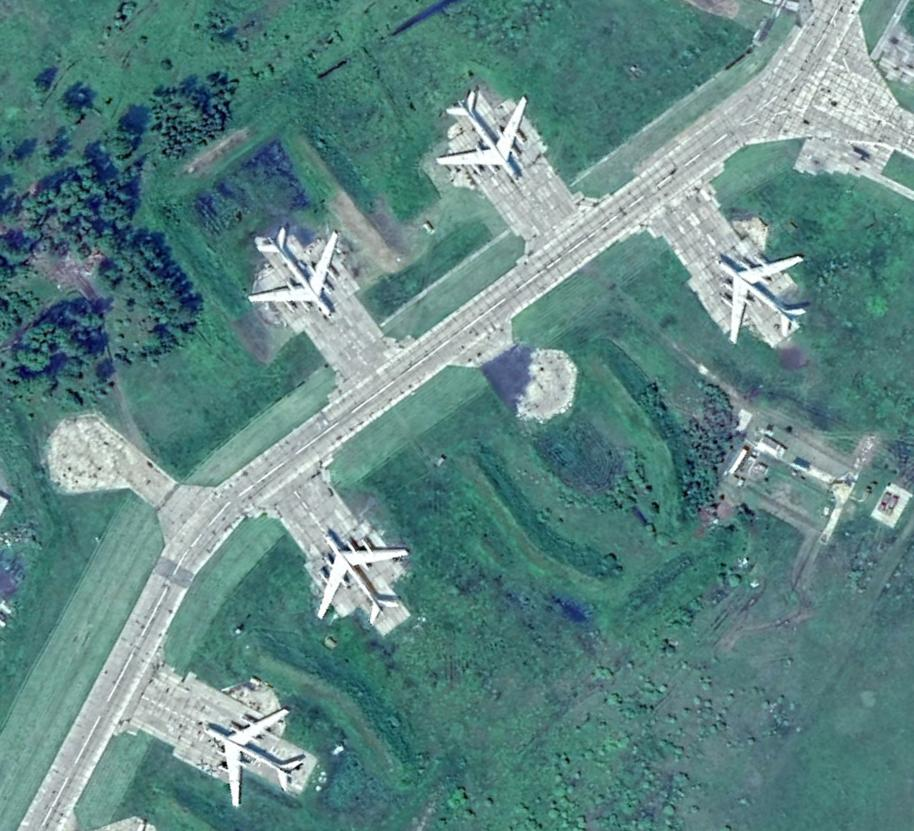A17: (194, 698, 310, 809), (701, 239, 815, 347), (307, 519, 408, 632), (243, 217, 345, 327), (432, 79, 528, 187)
